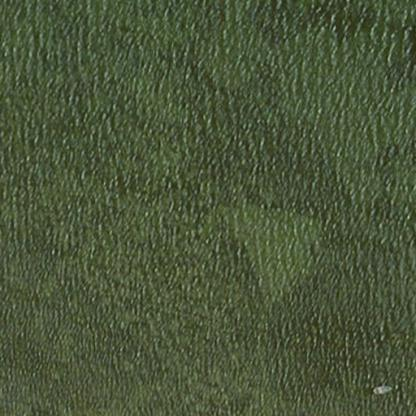ship: (370, 383, 393, 396)
